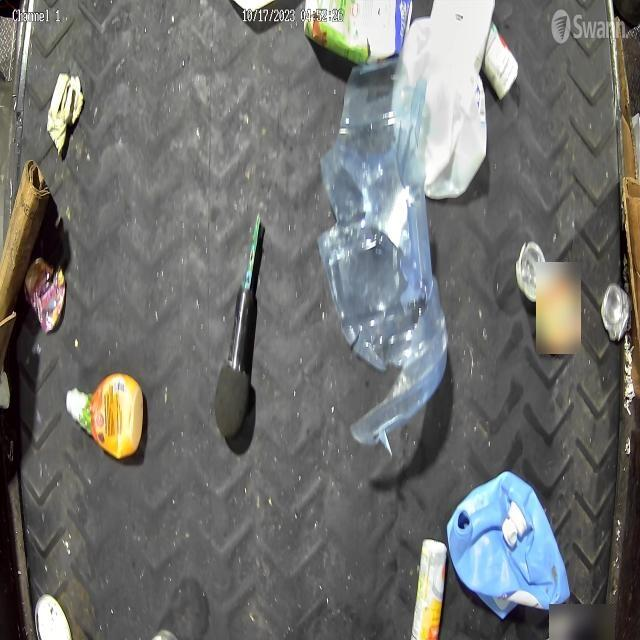milk_jug: (398, 11, 487, 196)
non_white_jug: (444, 470, 570, 620), (304, 0, 414, 66)
